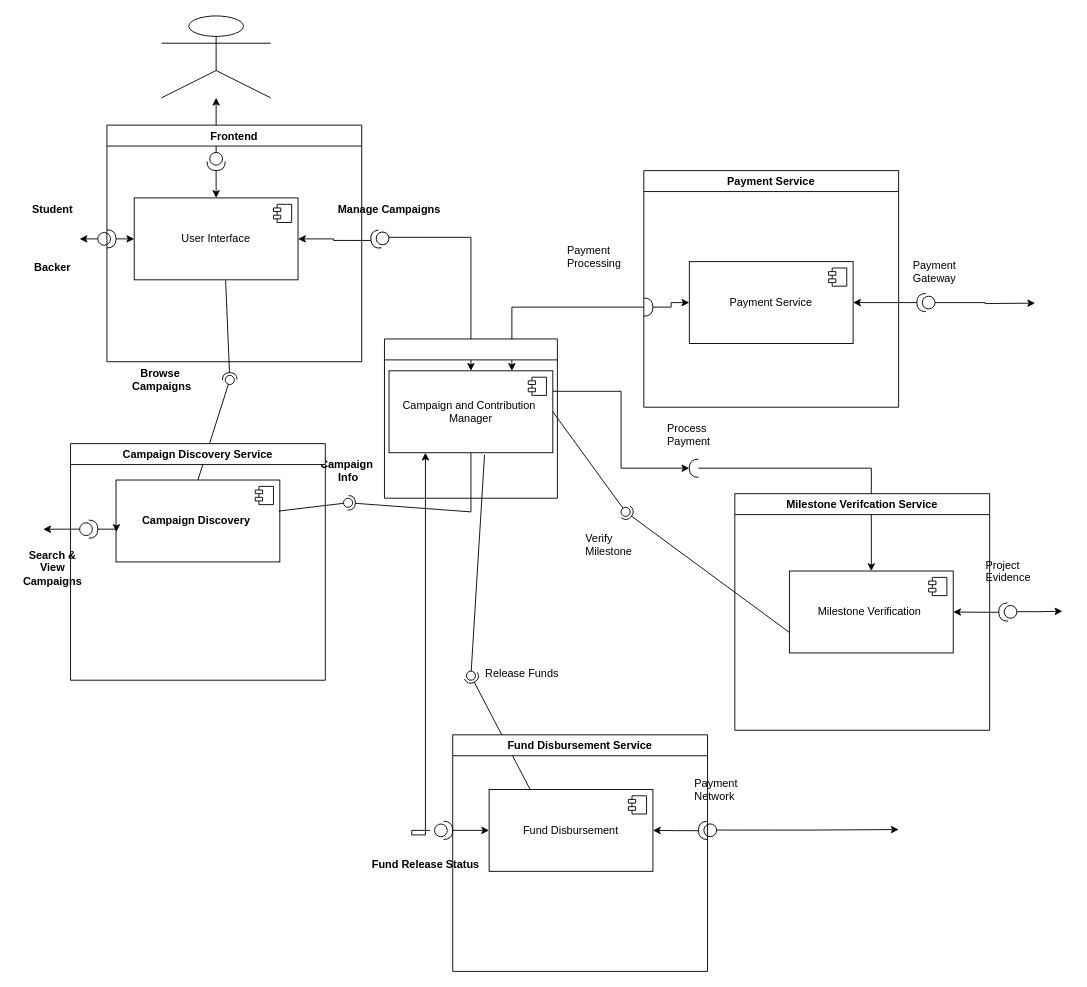
Some shapes in this 1087 by 987 pixel diagram are drawn without their labels. The shapes that lost their labels are listed below. From the top down, each one's centre as x and y in pixels, then its label:
[216,56]: External Users
[470,418]: Campaign & Contribution Mangaer
